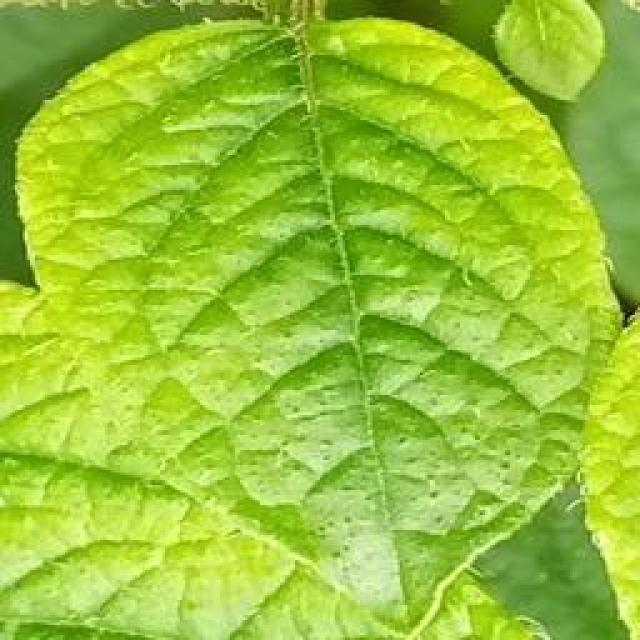healthy: (0, 10, 638, 638)
